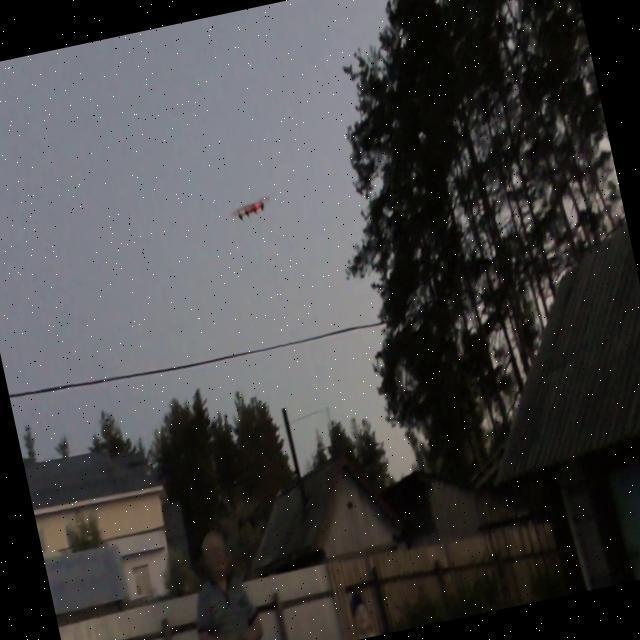Drons: (222, 189, 275, 224)
